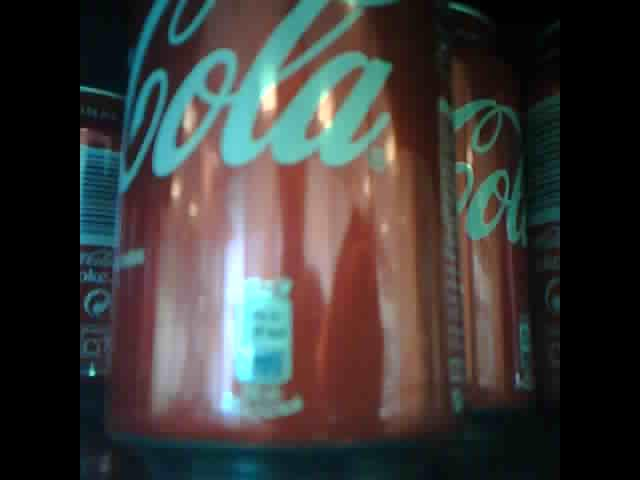coca cola: (109, 4, 471, 453), (440, 2, 558, 407), (78, 79, 116, 386)
